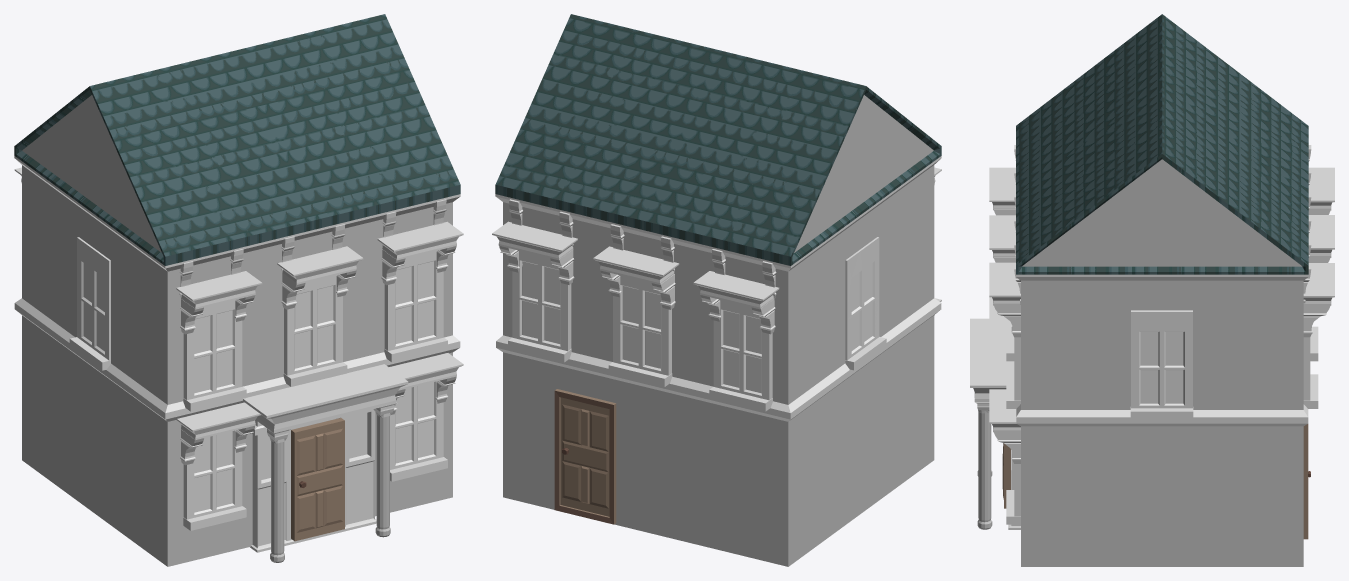
File: 单体建筑1x1修改.fbx
The picture shows the model from 3 angles, left to right: view 1: azimuth 30°, elevation 25°; view 2: azimuth 150°, elevation 25°; view 3: azimuth 270°, elevation 25°; orthographic projection. The views are drawn at different scales.
Visible parts, largest first — view 1: 1x1修改, 门1.005; view 2: 1x1修改, 门1.002, 门框; view 3: 1x1修改, 门框, 门1.005.
Boxes of the visible parts, <box> form: 1x1修改: <box>14,14,463,566</box>; 门1.005: <box>291,418,344,541</box>; 1x1修改: <box>492,14,941,566</box>; 门1.002: <box>560,397,609,516</box>; 门框: <box>554,389,616,524</box>; 1x1修改: <box>970,14,1334,566</box>; 门框: <box>1303,424,1308,539</box>; 门1.005: <box>1002,443,1010,508</box>.
Size of the model in its own units: 1417 by 1913 by 1516.
